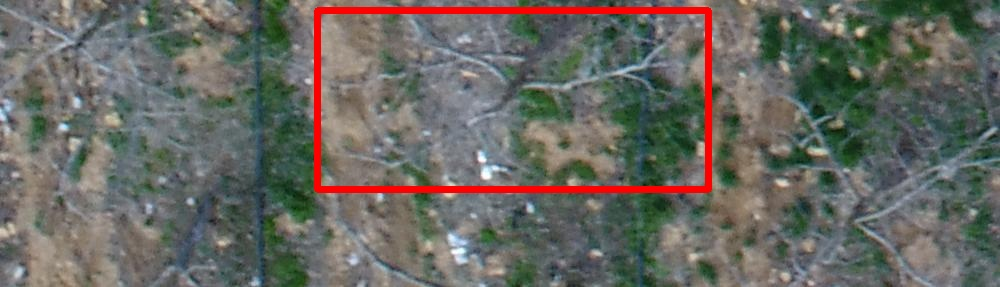apple: (317, 10, 708, 189)
